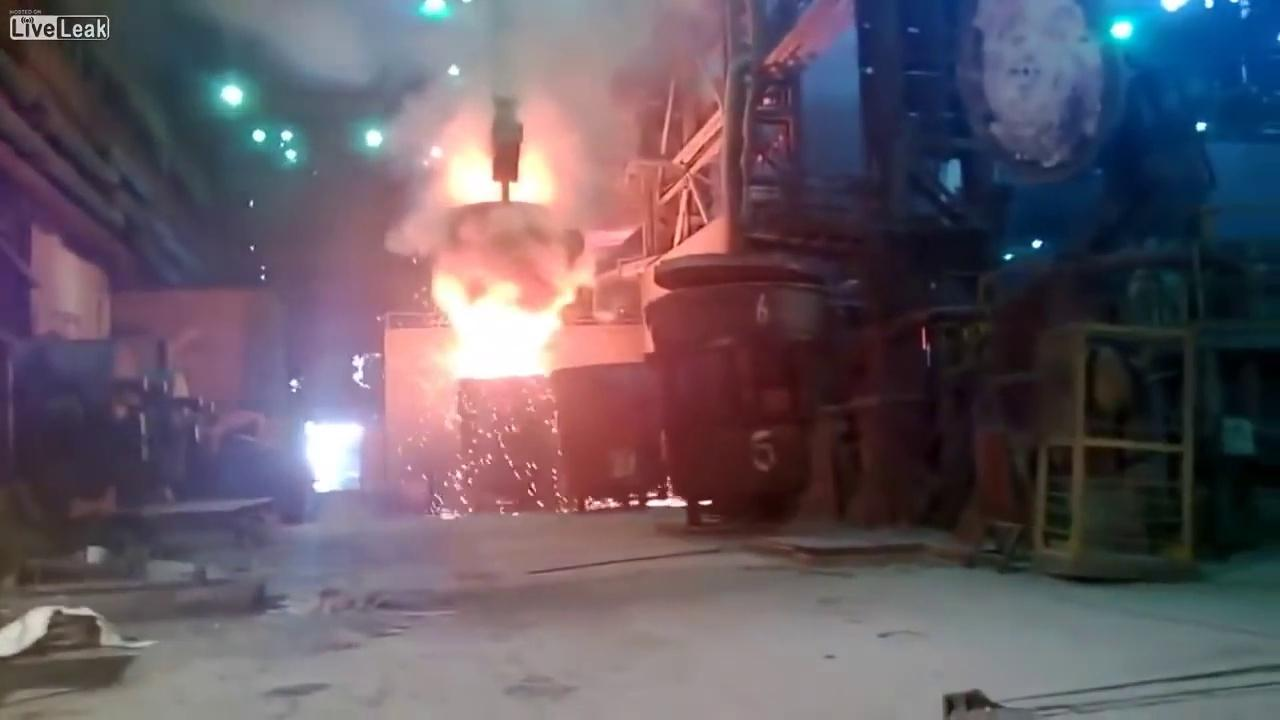fire: (366, 72, 700, 450)
